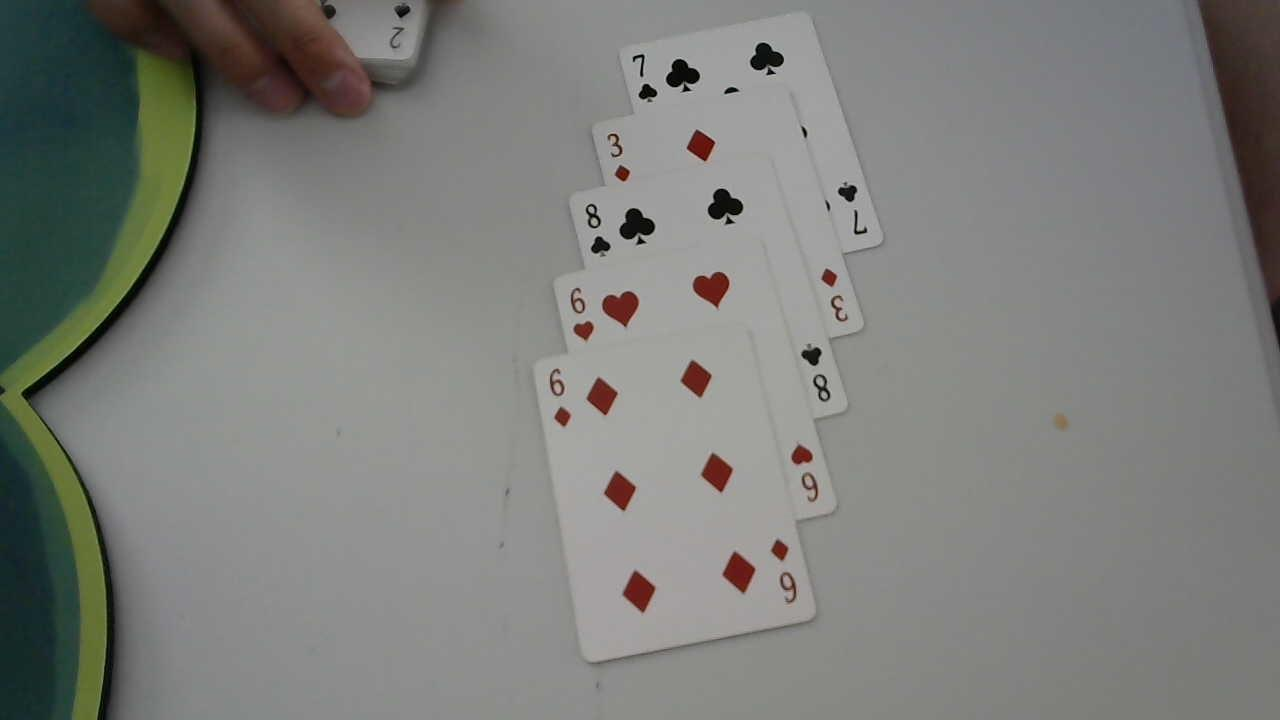2S: (373, 0, 417, 55)
3D: (812, 261, 850, 328), (598, 128, 637, 188)
6D: (767, 525, 799, 609), (546, 363, 578, 433)
6H: (786, 439, 824, 511), (562, 281, 597, 344)
7C: (833, 177, 872, 241), (627, 47, 662, 112)
8C: (795, 339, 833, 407), (581, 195, 614, 259)
